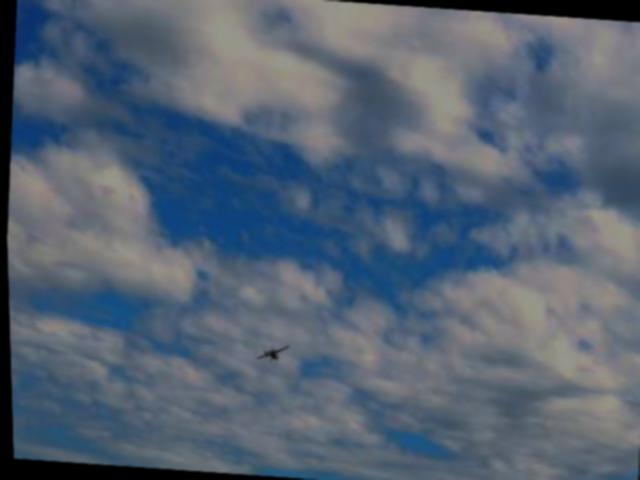uav: (251, 338, 289, 365)
